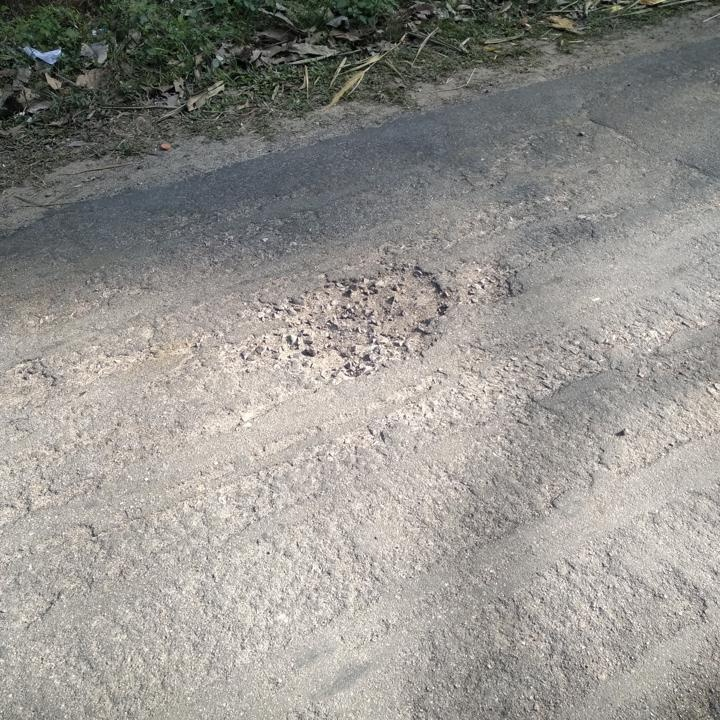pothole: (250, 258, 452, 390)
